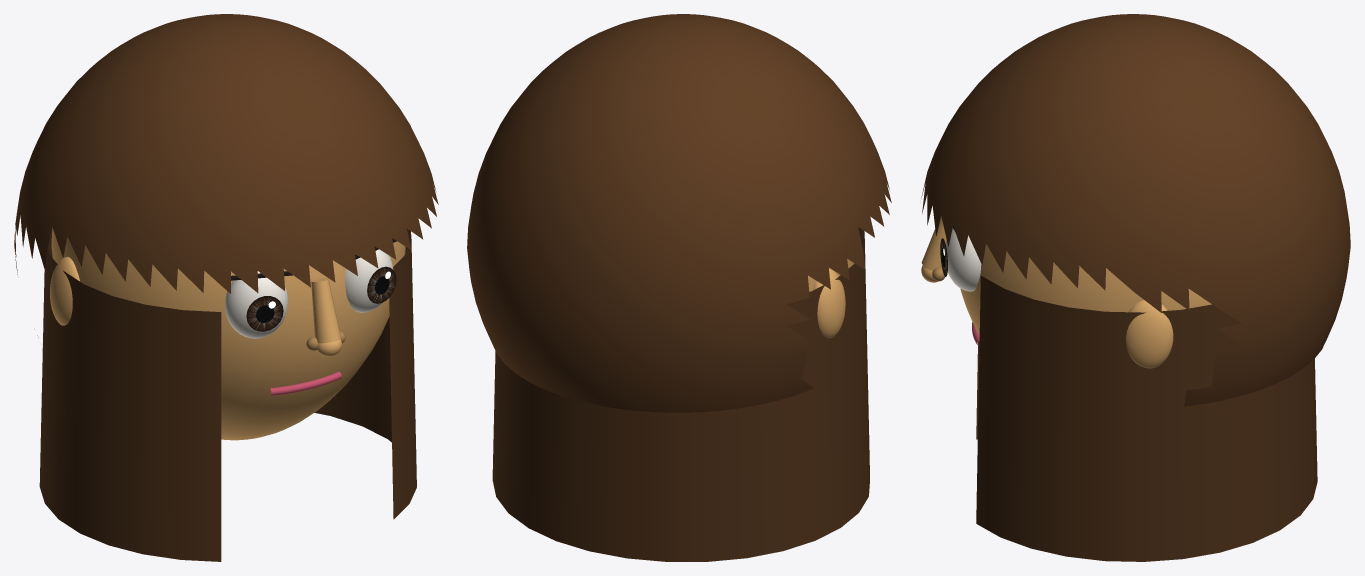
Rendered from femme-03-carre-long.glb.
3 renders of one model, left to right at view 1: azimuth 30°, elevation 25°; view 2: azimuth 150°, elevation 25°; view 3: azimuth 270°, elevation 25°, orthographic.
Bounding box in the file's own units: 0.3403 × 0.4005 × 0.3475.
12 materials, 1 textured.
